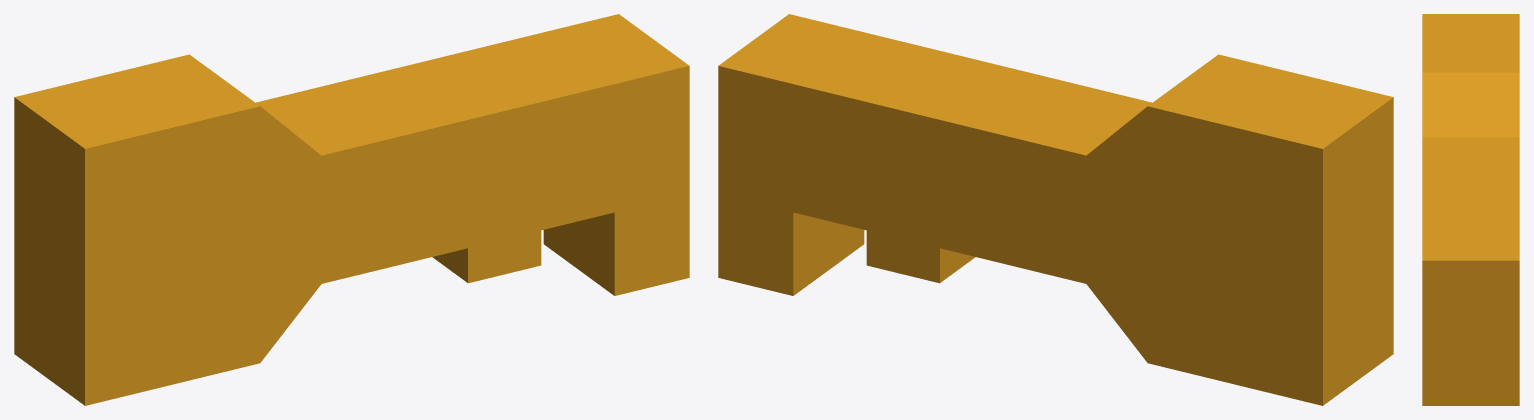
The model's file is key.fbx.
The picture shows the model from 3 angles, left to right: view 1: azimuth 30°, elevation 25°; view 2: azimuth 150°, elevation 25°; view 3: azimuth 270°, elevation 25°; orthographic projection. The views are drawn at different scales.
Parts seen in each view (by area): view 1: Cube; view 2: Cube; view 3: Cube.
Boxes of the visible parts, <box> form: Cube: <box>14,14,689,405</box>; Cube: <box>718,14,1393,405</box>; Cube: <box>1422,14,1519,405</box>.
Bounding box in the file's own units: 986 × 431 × 200.
